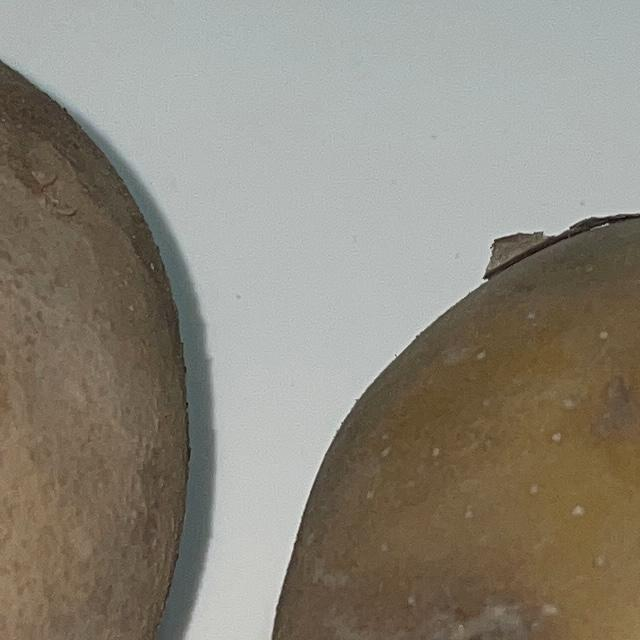potato: (255, 180, 640, 640), (0, 0, 212, 640)
